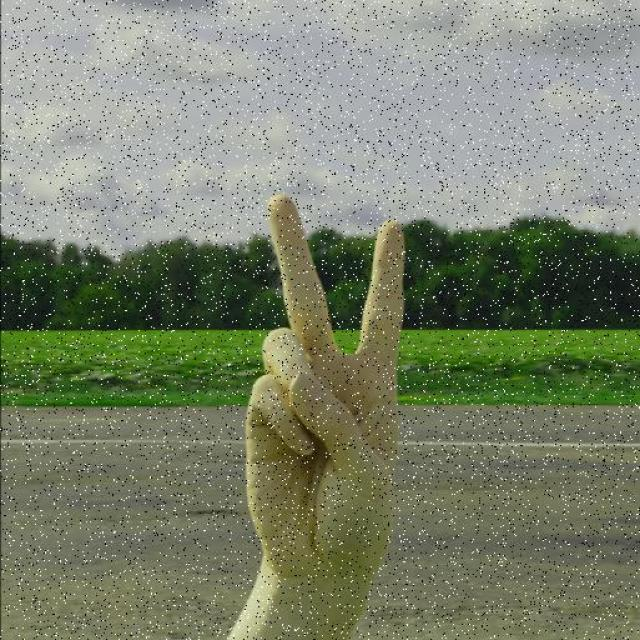V: (240, 179, 416, 606)
